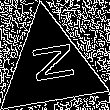N_W: (23, 44, 76, 91)
